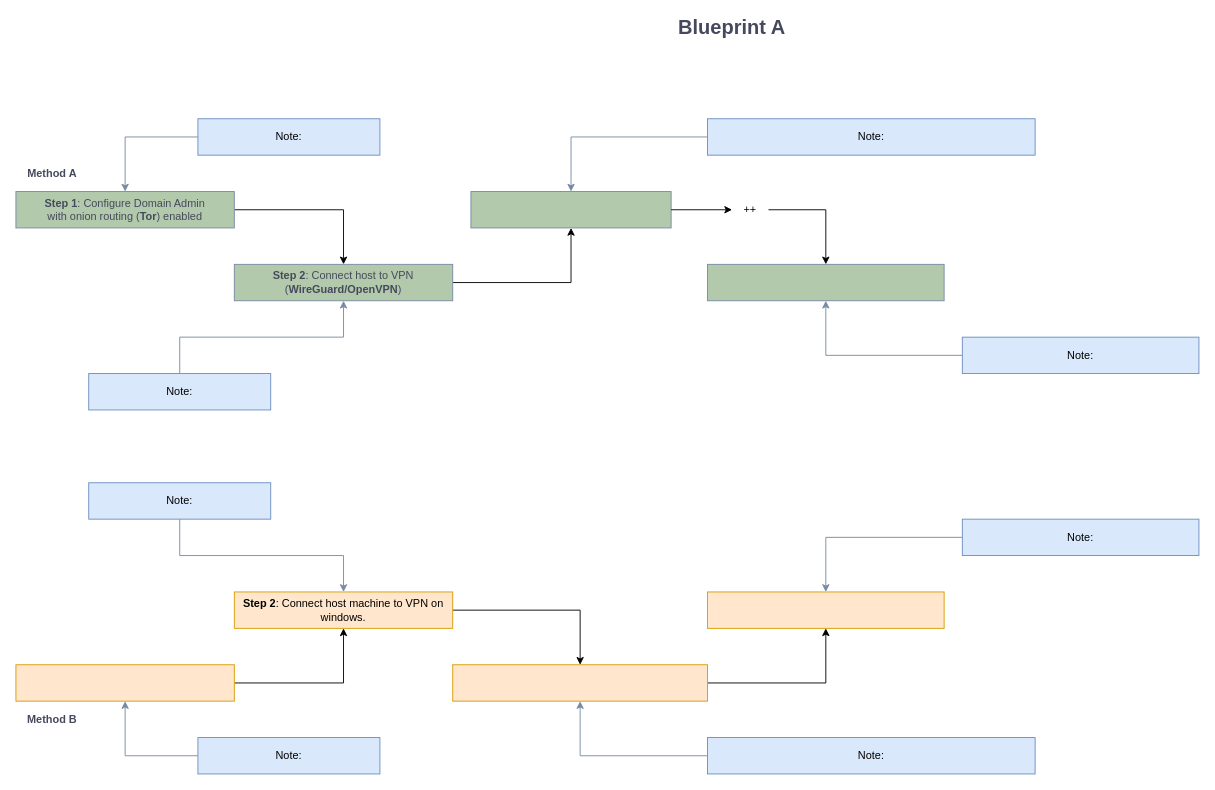
Some shapes in this 1215 by 790 pixel diagram are drawn without their labels. Each missing label, with the centre of its shape:
Step 1 :: (124,682)
Step 3 : Automate deployment via Docker: (570,209)
Step 3 : Connect VPN to Tor Network via VM: (580,682)
Step 4 :: (825,609)
Step 4 : Package VPN installation via packer ( hashicorp ): (825,282)
